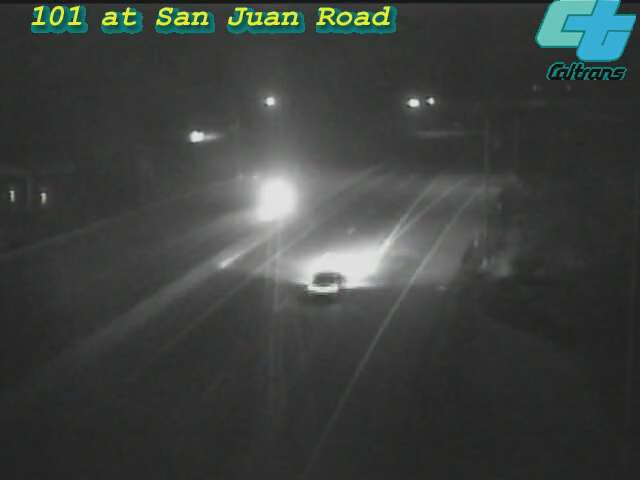vehicle: (283, 248, 363, 328), (236, 152, 316, 232)
